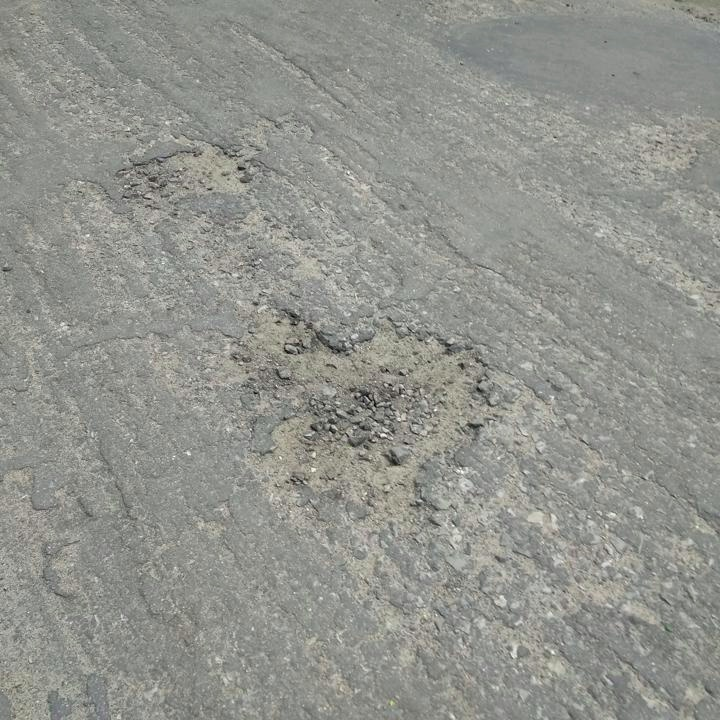pothole: (237, 301, 488, 523), (108, 133, 255, 206)
